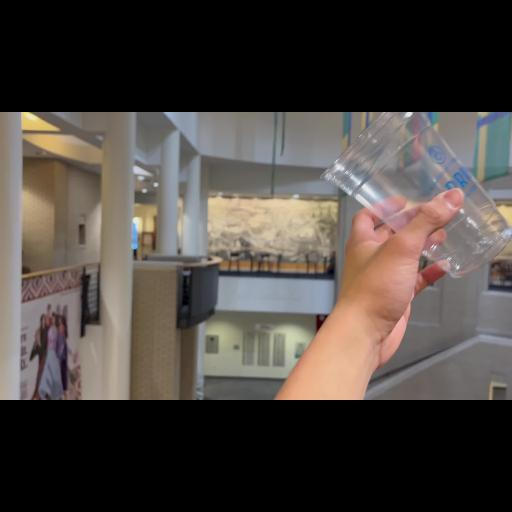lp_plastic_cup: (330, 116, 508, 272)
